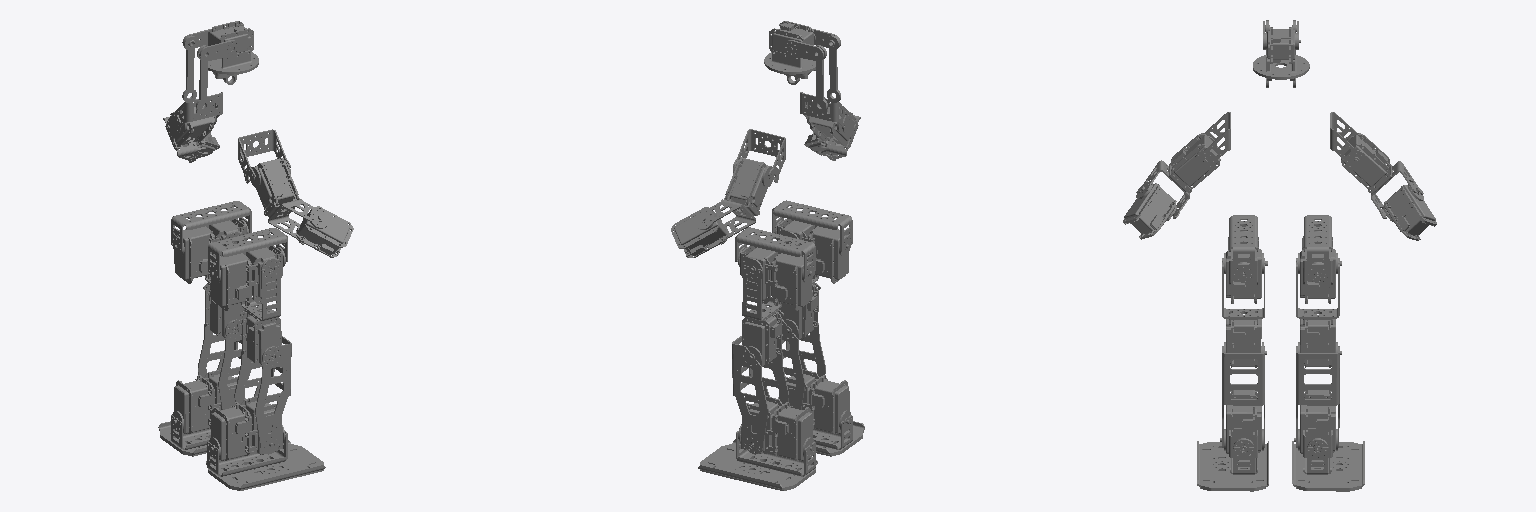
--- Facts derived from the render (not from the file) ---
The picture shows the robot from 3 angles, left to right: view 1: azimuth 30°, elevation 25°; view 2: azimuth 150°, elevation 25°; view 3: azimuth 270°, elevation 25°; orthographic projection.
Model hros5 with 31 links and 30 joints (20 revolute, 2 continuous, 8 fixed), rooted at base_link, posed every joint at zero.
Links seen in each view (by area): view 1: RFoot, RHipMotors, RTibia, RAnkle, RUpperArm, RThigh, LAnkle, LHipMotors, UpperHeadBase, LTibia, RLowerArm, LHip (+8 smaller); view 2: LFoot, LHipMotors, LTibia, LAnkle, LUpperArm, LThigh, RAnkle, RHipMotors, UpperHeadBase, LLowerArm, RTibia, RHip (+8 smaller); view 3: LFoot, RFoot, RUpperArm, LUpperArm, LThigh, RThigh, LAnkle, UpperHeadBase, RAnkle, RLowerArm, LLowerArm, LTibia (+7 smaller).
Link boxes in pixels (left/top/right/bottom): RFoot: left=206, top=431, right=325, bottom=490; RHipMotors: left=210, top=246, right=285, bottom=310; RTibia: left=234, top=336, right=291, bottom=449; RAnkle: left=209, top=396, right=285, bottom=460; RUpperArm: left=249, top=158, right=325, bottom=244; RThigh: left=240, top=265, right=281, bottom=366; LAnkle: left=172, top=369, right=245, bottom=433; LHipMotors: left=173, top=219, right=248, bottom=283; UpperHeadBase: left=208, top=21, right=258, bottom=84; LTibia: left=198, top=319, right=252, bottom=409; RLowerArm: left=296, top=206, right=353, bottom=257; LHip: left=171, top=201, right=251, bottom=251; LFoot: left=698, top=431, right=817, bottom=490; LHipMotors: left=738, top=246, right=813, bottom=310; LTibia: left=732, top=336, right=788, bottom=449; LAnkle: left=738, top=396, right=814, bottom=460; LUpperArm: left=698, top=157, right=774, bottom=244; LThigh: left=742, top=265, right=783, bottom=366; RAnkle: left=778, top=369, right=850, bottom=433; RHipMotors: left=775, top=219, right=850, bottom=283; UpperHeadBase: left=764, top=21, right=815, bottom=84; LLowerArm: left=671, top=207, right=727, bottom=257; RTibia: left=771, top=309, right=825, bottom=409; RHip: left=772, top=200, right=852, bottom=251; LFoot: left=1292, top=441, right=1364, bottom=491; RFoot: left=1197, top=441, right=1268, bottom=491; RUpperArm: left=1136, top=134, right=1220, bottom=220; LUpperArm: left=1341, top=134, right=1423, bottom=221; LThigh: left=1296, top=258, right=1341, bottom=367; RThigh: left=1222, top=258, right=1266, bottom=367; LAnkle: left=1294, top=390, right=1337, bottom=457; UpperHeadBase: left=1253, top=27, right=1309, bottom=80; RAnkle: left=1220, top=390, right=1263, bottom=457; RLowerArm: left=1123, top=183, right=1176, bottom=239; LLowerArm: left=1383, top=184, right=1436, bottom=240; LTibia: left=1296, top=346, right=1339, bottom=447.
Bounding box of the posed robot: 0.1498 × 0.4065 × 0.6143 m (x, y, z).
Meshes: 18 distinct files referenced, 21 mesh visuals loaded (16 Collada DAE); not drawn: 2 (reference not matched to a file when rendering).

URDF robot description (hros5):
<?xml version="1.0" ?>
<!-- =================================================================================== -->
<!-- |    This document was autogenerated by xacro from hros5.xacro                    | -->
<!-- |    EDITING THIS FILE BY HAND IS NOT RECOMMENDED                                 | -->
<!-- =================================================================================== -->
<robot name="hros5" xmlns:xacro="http://www.ros.org/wiki/xacro">
  <transmission name="HeadYaw_Transmission">
    <type>transmission_interface/SimpleTransmission</type>
    <joint name="HeadYaw">
      <hardwareInterface>EffortJointInterface</hardwareInterface>
    </joint>
    <actuator name="HeadYaw_Motor">
      <hardwareInterface>EffortJointInterface</hardwareInterface>
      <mechanicalReduction>1</mechanicalReduction>
    </actuator>
  </transmission>
  <transmission name="HeadPitch_Transmission">
    <type>transmission_interface/SimpleTransmission</type>
    <joint name="HeadPitch">
      <hardwareInterface>EffortJointInterface</hardwareInterface>
    </joint>
    <actuator name="HeadPitch_Motor">
      <hardwareInterface>EffortJointInterface</hardwareInterface>
      <mechanicalReduction>1</mechanicalReduction>
    </actuator>
  </transmission>
  <transmission name="LShoulderPitch_Transmission">
    <type>transmission_interface/SimpleTransmission</type>
    <joint name="LShoulderPitch">
      <hardwareInterface>EffortJointInterface</hardwareInterface>
    </joint>
    <actuator name="LShoulderPitch_Motor">
      <hardwareInterface>EffortJointInterface</hardwareInterface>
      <mechanicalReduction>1</mechanicalReduction>
    </actuator>
  </transmission>
  <transmission name="LShoulderRoll_Transmission">
    <type>transmission_interface/SimpleTransmission</type>
    <joint name="LShoulderRoll">
      <hardwareInterface>EffortJointInterface</hardwareInterface>
    </joint>
    <actuator name="LShoulderRoll_Motor">
      <hardwareInterface>EffortJointInterface</hardwareInterface>
      <mechanicalReduction>1</mechanicalReduction>
    </actuator>
  </transmission>
  <transmission name="LElbowPitch_Transmission">
    <type>transmission_interface/SimpleTransmission</type>
    <joint name="LElbowPitch">
      <hardwareInterface>EffortJointInterface</hardwareInterface>
    </joint>
    <actuator name="LElbowPitch_Motor">
      <hardwareInterface>EffortJointInterface</hardwareInterface>
      <mechanicalReduction>1</mechanicalReduction>
    </actuator>
  </transmission>
  <transmission name="RShoulderPitch_Transmission">
    <type>transmission_interface/SimpleTransmission</type>
    <joint name="RShoulderPitch">
      <hardwareInterface>EffortJointInterface</hardwareInterface>
    </joint>
    <actuator name="RShoulderPitch_Motor">
      <hardwareInterface>EffortJointInterface</hardwareInterface>
      <mechanicalReduction>1</mechanicalReduction>
    </actuator>
  </transmission>
  <transmission name="RShoulderRoll_Transmission">
    <type>transmission_interface/SimpleTransmission</type>
    <joint name="RShoulderRoll">
      <hardwareInterface>EffortJointInterface</hardwareInterface>
    </joint>
    <actuator name="RShoulderRoll_Motor">
      <hardwareInterface>EffortJointInterface</hardwareInterface>
      <mechanicalReduction>1</mechanicalReduction>
    </actuator>
  </transmission>
  <transmission name="RElbowPitch_Transmission">
    <type>transmission_interface/SimpleTransmission</type>
    <joint name="RElbowPitch">
      <hardwareInterface>EffortJointInterface</hardwareInterface>
    </joint>
    <actuator name="RElbowPitch_Motor">
      <hardwareInterface>EffortJointInterface</hardwareInterface>
      <mechanicalReduction>1</mechanicalReduction>
    </actuator>
  </transmission>
  <transmission name="LHipYaw_Transmission">
    <type>transmission_interface/SimpleTransmission</type>
    <joint name="LHipYaw">
      <hardwareInterface>EffortJointInterface</hardwareInterface>
    </joint>
    <actuator name="LHipYaw_Motor">
      <hardwareInterface>EffortJointInterface</hardwareInterface>
      <mechanicalReduction>1</mechanicalReduction>
    </actuator>
  </transmission>
  <transmission name="LHipRoll_Transmission">
    <type>transmission_interface/SimpleTransmission</type>
    <joint name="LHipRoll">
      <hardwareInterface>EffortJointInterface</hardwareInterface>
    </joint>
    <actuator name="LHipRoll_Motor">
      <hardwareInterface>EffortJointInterface</hardwareInterface>
      <mechanicalReduction>1</mechanicalReduction>
    </actuator>
  </transmission>
  <transmission name="LHipPitch_Transmission">
    <type>transmission_interface/SimpleTransmission</type>
    <joint name="LHipPitch">
      <hardwareInterface>EffortJointInterface</hardwareInterface>
    </joint>
    <actuator name="LHipPitch_Motor">
      <hardwareInterface>EffortJointInterface</hardwareInterface>
      <mechanicalReduction>1</mechanicalReduction>
    </actuator>
  </transmission>
  <transmission name="LKneePitch_Transmission">
    <type>transmission_interface/SimpleTransmission</type>
    <joint name="LKneePitch">
      <hardwareInterface>EffortJointInterface</hardwareInterface>
    </joint>
    <actuator name="LKneePitch_Motor">
      <hardwareInterface>EffortJointInterface</hardwareInterface>
      <mechanicalReduction>1</mechanicalReduction>
    </actuator>
  </transmission>
  <transmission name="LAnklePitch_Transmission">
    <type>transmission_interface/SimpleTransmission</type>
    <joint name="LAnklePitch">
      <hardwareInterface>EffortJointInterface</hardwareInterface>
    </joint>
    <actuator name="LAnklePitch_Motor">
      <hardwareInterface>EffortJointInterface</hardwareInterface>
      <mechanicalReduction>1</mechanicalReduction>
    </actuator>
  </transmission>
  <transmission name="LAnkleRoll_Transmission">
    <type>transmission_interface/SimpleTransmission</type>
    <joint name="LAnkleRoll">
      <hardwareInterface>EffortJointInterface</hardwareInterface>
    </joint>
    <actuator name="LAnkleRoll_Motor">
      <hardwareInterface>EffortJointInterface</hardwareInterface>
      <mechanicalReduction>1</mechanicalReduction>
    </actuator>
  </transmission>
  <transmission name="RHipYaw_Transmission">
    <type>transmission_interface/SimpleTransmission</type>
    <joint name="RHipYaw">
      <hardwareInterface>EffortJointInterface</hardwareInterface>
    </joint>
    <actuator name="RHipYaw_Motor">
      <hardwareInterface>EffortJointInterface</hardwareInterface>
      <mechanicalReduction>1</mechanicalReduction>
    </actuator>
  </transmission>
  <transmission name="RHipRoll_Transmission">
    <type>transmission_interface/SimpleTransmission</type>
    <joint name="RHipRoll">
      <hardwareInterface>EffortJointInterface</hardwareInterface>
    </joint>
    <actuator name="RHipRoll_Motor">
      <hardwareInterface>EffortJointInterface</hardwareInterface>
      <mechanicalReduction>1</mechanicalReduction>
    </actuator>
  </transmission>
  <transmission name="RHipPitch_Transmission">
    <type>transmission_interface/SimpleTransmission</type>
    <joint name="RHipPitch">
      <hardwareInterface>EffortJointInterface</hardwareInterface>
    </joint>
    <actuator name="RHipPitch_Motor">
      <hardwareInterface>EffortJointInterface</hardwareInterface>
      <mechanicalReduction>1</mechanicalReduction>
    </actuator>
  </transmission>
  <transmission name="RKneePitch_Transmission">
    <type>transmission_interface/SimpleTransmission</type>
    <joint name="RKneePitch">
      <hardwareInterface>EffortJointInterface</hardwareInterface>
    </joint>
    <actuator name="RKneePitch_Motor">
      <hardwareInterface>EffortJointInterface</hardwareInterface>
      <mechanicalReduction>1</mechanicalReduction>
    </actuator>
  </transmission>
  <transmission name="RAnklePitch_Transmission">
    <type>transmission_interface/SimpleTransmission</type>
    <joint name="RAnklePitch">
      <hardwareInterface>EffortJointInterface</hardwareInterface>
    </joint>
    <actuator name="RAnklePitch_Motor">
      <hardwareInterface>EffortJointInterface</hardwareInterface>
      <mechanicalReduction>1</mechanicalReduction>
    </actuator>
  </transmission>
  <transmission name="RAnkleRoll_Transmission">
    <type>transmission_interface/SimpleTransmission</type>
    <joint name="RAnkleRoll">
      <hardwareInterface>EffortJointInterface</hardwareInterface>
    </joint>
    <actuator name="RAnkleRoll_Motor">
      <hardwareInterface>EffortJointInterface</hardwareInterface>
      <mechanicalReduction>1</mechanicalReduction>
    </actuator>
  </transmission>
  <gazebo>
    <plugin filename="libgazebo_ros_control.so" name="gazebo_ros_control">
      <robotNamespace>/hros5</robotNamespace>
      <robotSimType>gazebo_ros_control/DefaultRobotHWSim</robotSimType>
    </plugin>
  </gazebo>
  <gazebo>
    <plugin filename="libroboticsgroup_gazebo_mimic_joint_plugin.so" name="HeadPitchDummy">
      <joint>HeadPitch</joint>
      <mimicJoint>HeadPitchDummy</mimicJoint>
      <multiplier>-1.0</multiplier>
      <offset>0.0</offset>
    </plugin>
    <plugin filename="libroboticsgroup_gazebo_mimic_joint_plugin.so" name="HeadPitchDummy2">
      <joint>HeadPitch</joint>
      <mimicJoint>HeadPitchDummy2</mimicJoint>
      <multiplier>0.65</multiplier>
      <offset>0.0</offset>
    </plugin>
  </gazebo>
  <link name="base_link"/>
  <joint name="fixed-base" type="fixed">
    <parent link="base_link"/>
    <child link="torso"/>
  </joint>
  <link name="torso">
    <visual>
      <origin rpy="0 0 0" xyz="0 0 0"/>
      <geometry>
        <mesh filename="package://hros5_description/meshes/endoskeleton/visual/torso.dae" scale="0.1 0.1 0.1"/>
      </geometry>
    </visual>
    <collision>
      <origin rpy="0 0 0" xyz="0 0 0"/>
      <geometry>
        <mesh filename="package://hros5_description/meshes/endoskeleton/collision/torso.stl" scale="0.1 0.1 0.1"/>
      </geometry>
    </collision>
    <inertial>
      <!-- Dummy values from Darwin OP -->
      <origin xyz="-0.003053 -0.038651 -0.019268"/>
      <mass value="0.97559947"/>
      <inertia ixx="3.1081800" ixy="-0.25460189" ixz="2.0318174" iyy="6.3787776" iyz="0.16417863" izz="5.3316425"/>
    </inertial>
  </link>
  <joint name="HeadYaw" type="revolute">
    <parent link="torso"/>
    <child link="LowerHead"/>
    <origin rpy="0 0 0" xyz="0.0035 0 0.1115"/>
    <axis xyz="0 0 1"/>
    <limit effort="2.5" lower="-1.22173048" upper="1.22173048" velocity="5.759586525"/>
  </joint>
  <link name="LowerHead">
    <visual>
      <origin rpy="0 0 0" xyz="-0.03 0 0.033"/>
      <geometry>
        <mesh filename="package://hros5_description/meshes/endoskeleton/visual/LowerHead.dae" scale="0.1 0.1 0.1"/>
      </geometry>
    </visual>
    <collision>
      <origin rpy="0 0 0" xyz="-0.03 0 0.033"/>
      <geometry>
        <mesh filename="package://hros5_description/meshes/endoskeleton/collision/LowerHead.stl" scale="0.1 0.1 0.1"/>
      </geometry>
    </collision>
    <inertial>
      <!-- Dummy values from Darwin OP -->
      <origin xyz="0.001424 -0.016567 -0.007128"/>
      <mass value="0.024357719"/>
      <inertia ixx="0.0051411124" ixy="-0.00057530255" ixz="-0.000024729049" iyy="0.0081915737" iyz="-0.000019223094" izz="0.0011379812"/>
    </inertial>
  </link>
  <joint name="HeadPitch" type="revolute">
    <parent link="LowerHead"/>
    <child link="UpperHeadBase"/>
    <origin rpy="0 0 0" xyz="-0.01 0 0.049"/>
    <axis xyz="0 1 0"/>
    <limit effort="2.5" lower="-0.25" upper="0.4" velocity="5.759586525"/>
  </joint>
  <link name="UpperHeadBase">
    <visual>
      <origin rpy="0 0 0" xyz="0.0075 -0.0045 0.0275"/>
      <geometry>
        <mesh filename="package://hros5_description/meshes/endoskeleton/visual/UpperHeadBase.dae" scale="0.1 0.1 0.1"/>
      </geometry>
    </visual>
    <collision>
      <origin rpy="0 0 0" xyz="0.0075 -0.0045 0.0275"/>
      <geometry>
        <mesh filename="package://hros5_description/meshes/endoskeleton/collision/UpperHeadBase.stl" scale="0.1 0.1 0.1"/>
      </geometry>
    </collision>
    <inertial>
      <!-- Dummy values from Darwin OP -->
      <origin xyz="0.000064 -0.018565 -0.007667"/>
      <mass value="0.15804192"/>
      <inertia ixx="0.1239683" ixy="0.000078494368" ixz="0.000007645979" iyy="0.11783781" iyz="0.0012199205" izz="0.1583601"/>
    </inertial>
  </link>
  <joint name="HeadPitchDummy" type="continuous">
    <parent link="UpperHeadBase"/>
    <child link="UpperHeadMotor"/>
    <origin rpy="0 0 0" xyz="-0.00225 0 0.046"/>
    <axis xyz="0 1 0"/>
    <mimic joint="HeadPitch" multiplier="-1.0"/>
  </joint>
  <link name="UpperHeadMotor">
    <visual>
      <origin rpy="0 0 0" xyz="-0.03 0 0.00075"/>
      <geometry>
        <mesh filename="package://hros5_description/meshes/endoskeleton/visual/UpperHeadMotor.dae" scale="0.1 0.1 0.1"/>
      </geometry>
    </visual>
    <collision>
      <origin rpy="0 0 0" xyz="-0.03 0 0.00075"/>
      <geometry>
        <mesh filename="package://hros5_description/meshes/endoskeleton/collision/UpperHeadMotor.stl" scale="0.1 0.1 0.1"/>
      </geometry>
    </collision>
    <inertial>
      <!-- dummy values for gazebo -->
      <mass value="0.2e-5"/>
      <origin xyz="0 0 0"/>
      <inertia ixx="1e-9" ixy="0" ixz="0" iyy="1e-9" iyz="0" izz="1e-9"/>
    </inertial>
  </link>
  <joint name="HeadPitchDummy2" type="continuous">
    <parent link="LowerHead"/>
    <child link="UpperHeadBack"/>
    <origin rpy="0 0 0" xyz="-0.0525 0 0.021"/>
    <axis xyz="0 1 0"/>
    <mimic joint="HeadPitch" multiplier="0.65"/>
  </joint>
  <link name="UpperHeadBack">
    <visual>
      <origin rpy="0 0 0" xyz="0.001 0 0.0375"/>
      <geometry>
        <mesh filename="package://hros5_description/meshes/endoskeleton/visual/UpperHeadBack.dae" scale="0.1 0.1 0.1"/>
      </geometry>
    </visual>
    <collision>
      <origin rpy="0 0 0" xyz="0.001 0 0.0375"/>
      <geometry>
        <mesh filename="package://hros5_description/meshes/endoskeleton/collision/UpperHeadBack.stl" scale="0.1 0.1 0.1"/>
      </geometry>
    </collision>
    <inertial>
      <!-- dummy values for gazebo -->
      <mass value="0.2e-5"/>
      <origin xyz="0 0 0"/>
      <inertia ixx="1e-9" ixy="0" ixz="0" iyy="1e-9" iyz="0" izz="1e-9"/>
    </inertial>
  </link>
  <joint name="gaze_joint" type="fixed">
    <parent link="UpperHeadBase"/>
    <child link="gaze"/>
    <origin rpy="0 0 0" xyz="0 0 0"/>
  </joint>
  <link name="gaze"/>
  <joint name="LShoulderPitch" type="revolute">
    <parent link="torso"/>
    <child link="LShoulder"/>
    <origin rpy="0 0 0" xyz="0.003 0.0675 0.084"/>
    <axis xyz="0 1 0"/>
    <limit effort="6.0" lower="-3.14159265" upper="3.14159265" velocity="6.597344565"/>
  </joint>
  <link name="LShoulder">
    <visual>
      <origin rpy="0 0 0" xyz="0 0.0122 -0.0125"/>
      <geometry>
        <mesh filename="package://hros5_description/meshes/endoskeleton/visual/LShoulder.dae" scale="0.1 0.1 0.1"/>
      </geometry>
    </visual>
    <collision>
      <origin rpy="0 0 0" xyz="0 0.0122 -0.0125"/>
      <geometry>
        <mesh filename="package://hros5_description/meshes/endoskeleton/collision/LShoulder.stl" scale="0.1 0.1 0.1"/>
      </geometry>
    </collision>
    <inertial>
      <!-- Dummy values from Darwin OP -->
      <origin xyz="-0.013522619 0.010264050 0.0013935747"/>
      <mass value="0.025913024"/>
      <inertia ixx="0.0097758165" ixy="0.0016911839" ixz="-0.00045174329" iyx="0.0016911839" iyy="0.010511104" iyz="0.00033406955" izx="-0.00045174329" izy="0.00033406955" izz="0.005476798"/>
    </inertial>
  </link>
  <link name="LUpperArm">
    <visual>
      <origin rpy="0 0 0" xyz="0 -0.0005 -0.0395"/>
      <geometry>
        <mesh filename="package://hros5_description/meshes/endoskeleton/visual/LUpperArm.dae" scale="0.1 0.1 0.1"/>
      </geometry>
    </visual>
    <collision>
      <origin rpy="0 0 0" xyz="0 -0.00025 -0.0395"/>
      <geometry>
        <mesh filename="package://hros5_description/meshes/endoskeleton/collision/LUpperArm.stl" scale="0.1 0.1 0.1"/>
      </geometry>
    </collision>
    <inertial>
      <!-- Dummy values from Darwin OP -->
      <origin xyz="-0.036239 0.000734 0.000660"/>
      <mass value="0.16837715"/>
      <inertia ixx="0.12202839" ixy="-0.0020812626" ixz="-0.00088143449" iyx="-0.0020812626" iyy="0.038088441" iyz="0.0018251448" izx="-0.00088143449" izy="0.0018251448" izz="0.11340830"/>
    </inertial>
  </link>
  <link name="LLowerArm">
    <visual>
      <origin rpy="0 0 0" xyz="0 -0.003 -0.0204"/>
      <geometry>
        <mesh filename="package://hros5_description/meshes/endoskeleton/visual/LLowerArm.dae" scale="0.1 0.1 0.1"/>
      </geometry>
    </visual>
    <collision>
      <origin rpy="0 0 0" xyz="0 -0.003 -0.0204"/>
      <geometry>
        <mesh filename="package://hros5_description/meshes/endoskeleton/collision/LLowerArm.stl" scale="0.1 0.1 0.1"/>
      </geometry>
    </collision>
    <inertial>
      <!-- Dummy values from Darwin OP -->
      <origin xyz="0.000000 0.000000 0.000000"/>
      <mass value="0.059288504"/>
      <inertia ixx="0.086855267" ixy="0.0053020311" ixz="0.00043636051" iyx="0.0053020311" iyy="0.021192085" iyz="-0.0064855932" izx="0.00043636051" izy="-0.0064855932" izz="0.086845450"/>
    </inertial>
  </link>
  <joint name="RShoulderPitch" type="revolute">
    <parent link="torso"/>
    <child link="RShoulder"/>
    <origin rpy="0 0 0" xyz="0.003 -0.0675 0.084"/>
    <axis xyz="0 1 0"/>
    <limit effort="6.0" lower="-3.14159265" upper="3.14159265" velocity="6.597344565"/>
  </joint>
  <link name="RShoulder">
    <visual>
      <origin rpy="0 0 0" xyz="0 -0.0122 -0.0125"/>
      <geometry>
        <mesh filename="package://hros5_description/meshes/endoskeleton/visual/RShoulder.dae" scale="0.1 0.1 0.1"/>
      </geometry>
    </visual>
    <collision>
      <origin rpy="0 0 0" xyz="0 -0.0122 -0.0125"/>
      <geometry>
        <mesh filename="package://hros5_description/meshes/endoskeleton/collision/RShoulder.stl" scale="0.1 0.1 0.1"/>
      </geometry>
    </collision>
    <inertial>
      <!-- Dummy values from Darwin OP -->
      <origin xyz="-0.013522619 0.010264050 0.0013935747"/>
      <mass value="0.025913024"/>
      <inertia ixx="0.0097758165" ixy="0.0016911839" ixz="-0.00045174329" iyx="0.0016911839" iyy="0.010511104" iyz="0.00033406955" izx="-0.00045174329" izy="0.00033406955" izz="0.005476798"/>
    </inertial>
  </link>
  <link name="RUpperArm">
    <visual>
      <origin rpy="0 0 0" xyz="0 -0.0005 -0.0395"/>
      <geometry>
        <mesh filename="package://hros5_description/meshes/endoskeleton/visual/RUpperArm.dae" scale="0.1 0.1 0.1"/>
      </geometry>
    </visual>
    <collision>
      <origin rpy="0 0 0" xyz="0 0.00025 -0.0395"/>
      <geometry>
        <mesh filename="package://hros5_description/meshes/endoskeleton/collision/RUpperArm.stl" scale="0.1 0.1 0.1"/>
      </geometry>
    </collision>
    <inertial>
      <!-- Dummy values from Darwin OP -->
      <origin xyz="-0.036239 0.000734 0.000660"/>
      <mass value="0.16837715"/>
      <inertia ixx="0.12202839" ixy="-0.0020812626" ixz="-0.00088143449" iyx="-0.0020812626" iyy="0.038088441" iyz="0.0018251448" izx="-0.00088143449" izy="0.0018251448" izz="0.11340830"/>
    </inertial>
  </link>
  <link name="RLowerArm">
    <visual>
      <origin rpy="0 0 0" xyz="0 0.003 -0.0204"/>
      <geometry>
        <mesh filename="package://hros5_description/meshes/endoskeleton/visual/RLowerArm.dae" scale="0.1 0.1 0.1"/>
      </geometry>
    </visual>
    <collision>
      <origin rpy="0 0 0" xyz="0 0.003 -0.0204"/>
      <geometry>
        <mesh filename="package://hros5_description/meshes/endoskeleton/collision/RLowerArm.stl" scale="0.1 0.1 0.1"/>
      </geometry>
    </collision>
    <inertial>
      <!-- Dummy values from Darwin OP -->
      <origin xyz="0.000000 0.000000 0.000000"/>
      <mass value="0.059288504"/>
      <inertia ixx="0.086855267" ixy="0.0053020311" ixz="0.00043636051" iyx="0.0053020311" iyy="0.021192085" iyz="-0.0064855932" izx="0.00043636051" izy="-0.0064855932" izz="0.086845450"/>
    </inertial>
  </link>
  <joint name="LShoulderRoll" type="revolute">
    <parent link="LShoulder"/>
    <child link="LUpperArm"/>
    <origin rpy="0.785398163395 0 0" xyz="0.002 0.03 -0.03"/>
    <axis xyz="1 0 0"/>
    <limit effort="6.0" lower="-2.35619449" upper="1.30899694" velocity="6.597344565"/>
  </joint>
  <joint name="RShoulderRoll" type="revolute">
    <parent link="RShoulder"/>
    <child link="RUpperArm"/>
    <origin rpy="-0.785398163395 0 0" xyz="0.002 -0.03 -0.03"/>
    <axis xyz="1 0 0"/>
    <limit effort="6.0" lower="-1.30899694" upper="2.35619449" velocity="6.597344565"/>
  </joint>
  <joint name="LElbowPitch" type="revolute">
    <parent link="LUpperArm"/>
    <child link="LLowerArm"/>
    <origin rpy="0 -0.785398163395 0" xyz="0.03 -0.0015 -0.085"/>
    <axis xyz="0 1 0"/>
    <limit effort="6.0" lower="-1.22173048" upper="1.65806279" velocity="6.597344565"/>
  </joint>
  <joint name="RElbowPitch" type="revolute">
    <parent link="RUpperArm"/>
    <child link="RLowerArm"/>
    <origin rpy="0 -0.785398163395 0" xyz="0.03 -0.0015 -0.085"/>
    <axis xyz="0 1 0"/>
    <limit effort="6.0" lower="-1.65806279" upper="1.22173048" velocity="6.597344565"/>
  </joint>
  <joint name="l_wrist_joint" type="fixed">
    <parent link="LLowerArm"/>
    <child link="l_wrist"/>
    <origin rpy="0 0 0" xyz="0 0 -0.0425"/>
  </joint>
  <link name="l_wrist"/>
  <joint name="r_wrist_joint" type="fixed">
    <parent link="RLowerArm"/>
    <child link="r_wrist"/>
    <origin rpy="0 0 0" xyz="0 0 -0.0425"/>
  </joint>
  <link name="r_wrist"/>
  <joint name="LHipYaw" type="revolute">
    <parent link="torso"/>
    <child link="LHip"/>
    <origin rpy="0 0 0" xyz="0.0175 0.048 -0.063"/>
    <axis xyz="0 0 1"/>
    <limit effort="8.4" lower="-0.523598776" upper="0.523598776" velocity="4.712388975"/>
  </joint>
  <link name="LHip">
    <visual>
      <origin rpy="0 0 0" xyz="-0.01605 0 -0.008931"/>
      <geometry>
        <mesh filename="package://hros5_description/meshes/endoskeleton/visual/Hip.dae" scale="0.1 0.1 0.1"/>
      </geometry>
    </visual>
    <collision>
      <origin rpy="0 0 0" xyz="-0.01605 0 -0.008931"/>
      <geometry>
        <mesh filename="package://hros5_description/meshes/endoskeleton/collision/Hip.stl" scale="0.1 0.1 0.1"/>
      </geometry>
    </collision>
    <inertial>
      <!-- Dummy values from Darwin OP -->
      <origin xyz="0.000000 0.000480 0.018437"/>
      <mass value="0.167"/>
      <inertia ixx="0.12259691" ixy="0.00071127469" ixz="0.00081143913" iyx="0.00071127469" iyy="0.11066637" iyz="-0.0071635476" izx="0.00081143913" izy="-0.0071635476" izz="0.041877668"/>
    </inertial>
  </link>
  <joint name="LHipRoll" type="revolute">
    <parent link="LHip"/>
    <child link="LHipMotors"/>
    <origin rpy="0 0 0" xyz="-0.0675 0 -0.034"/>
    <axis xyz="1 0 0"/>
    <limit effort="8.4" lower="-0.785398163" upper="0.785398163" velocity="4.712388975"/>
  </joint>
  <link name="LHipMotors">
    <visual>
      <origin rpy="0 0 0" xyz="0.077 -0.0052 -0.0041"/>
      <geometry>
        <mesh filename="package://hros5_description/meshes/endoskeleton/visual/HipMotors.dae" scale="0.1 0.1 0.1"/>
      </geometry>
    </visual>
    <collision>
      <origin rpy="0 0 0" xyz="0.077 -0.0052 -0.0041"/>
      <geometry>
        <mesh filename="package://hros5_description/meshes/endoskeleton/collision/HipMotors.stl" scale="0.1 0.1 0.1"/>
      </geometry>
    </collision>
    <inertial>
      <!-- Dummy values from Darwin OP -->
      <origin xyz="0.000000 0.000480 0.018437"/>
      <mass value="0.167"/>
      <inertia ixx="0.12259691" ixy="0.00071127469" ixz="0.00081143913" iyx="0.00071127469" iyy="0.11066637" iyz="-0.0071635476" izx="0.00081143913" izy="-0.0071635476" izz="0.041877668"/>
    </inertial>
  </link>
  <joint name="LHipPitch" type="revolute">
    <parent link="LHipMotors"/>
    <child link="LThigh"/>
    <origin rpy="0 0 0" xyz="0.0705 0 0"/>
    <axis xyz="0 1 0"/>
    <limit effort="8.4" lower="-1.57079633" upper="1.57079633" velocity="4.712388975"/>
  </joint>
  <link name="LThigh">
    <visual>
      <origin rpy="0 0 0" xyz="0.001 -0.0095 -0.095"/>
      <geometry>
        <mesh filename="package://hros5_description/meshes/endoskeleton/visual/Thigh.dae" scale="0.1 0.1 0.1"/>
      </geometry>
    </visual>
    <collision>
      <origin rpy="0 0 0" xyz="0.001 -0.0095 -0.095"/>
      <geometry>
        <mesh filename="package://hros5_description/meshes/endoskeleton/collision/Thigh.stl" scale="0.1 0.1 0.1"/>
      </geometry>
    </collision>
    <inertial>
      <!-- Dummy values from Darwin OP -->
      <origin xyz="0.000079 0.018242 0.013873"/>
      <mass value="0.11904336"/>
      <inertia ixx="0.097950272" ixy="0.0012119368" ixz="-0.00021223016" iyx="0.00122119368" iyy="0.032848287" iyz="-0.0019474021" izx="-0.00021223016" izy="-0.0019474021" izz="0.11493509"/>
    </inertial>
  </link>
  <joint name="LKneePitch" type="revolute">
    <parent link="LThigh"/>
    <child link="LTibia"/>
    <origin rpy="0 0 0" xyz="0.0017 0 -0.127"/>
    <axis xyz="0 1 0"/>
    <limit effort="8.4" lower="-2.7925268" upper="2.7925268" velocity="4.712388975"/>
  </joint>
  <link name="LTibia">
    <visual>
      <origin rpy="0 0 0" xyz="0.004 0 -0.059"/>
      <geometry>
        <mesh filename="package://hros5_description/meshes/endoskeleton/visual/Tibia.dae" scale="0.1 0.1 0.1"/>
      </geometry>
    </visual>
    <collision>
      <origin rpy="0 0 0" xyz="0.004 0 -0.059"/>
      <geometry>
        <mesh filename="package://hros5_description/meshes/endoskeleton/collision/Tibia.stl" scale="0.1 0.1 0.1"/>
      </geometry>
    </collision>
    <inertial>
      <!-- Dummy values from Darwin OP -->
      <origin xyz="-0.053955 0.006548 -0.000592"/>
      <mass value="0.070309794"/>
      <inertia ixx="0.093369608" ixy="-0.00093567395" ixz="-0.00023992085" iyx="-0.00093567395" iyy="0.046295534" iyz="-0.012858493" izx="-0.00023992085" izy="-0.012858493" izz="0.11351516"/>
    </inertial>
  </link>
  <joint name="LAnklePitch" type="revolute">
    <parent link="LTibia"/>
    <child link="LAnkle"/>
    <origin rpy="0 0 0" xyz="-0.002 0 -0.125"/>
    <axis xyz="0 1 0"/>
    <limit effort="8.4" lower="-1.57079633" upper="1.57079633" velocity="4.712388975"/>
  </joint>
  <link name="LAnkle">
    <visual>
      <origin rpy="0 0 0" xyz="0.00625 0.00525 0.0042"/>
      <geometry>
        <mesh filename="package://hros5_description/meshes/endoskeleton/visual/Ankle.dae" scale="0.1 0.1 0.1"/>
      </geometry>
    </visual>
    <collision>
      <origin rpy="0 0 0" xyz="0.00625 0.00525 0.0042"/>
      <geometry>
        <mesh filename="package://hros5_description/meshes/endoskeleton/collision/Ankle.stl" scale="0.1 0.1 0.1"/>
      </geometry>
    </collision>
    <inertial>
      <!-- Dummy values from Darwin OP -->
      <origin xyz="-0.000214 -0.018536 0.013873"/>
      <mass value="0.16710792"/>
      <inertia ixx="0.12079175" ixy="-0.00079781067" ixz="-0.00039322246" iyx="-0.00079781067" iyy="0.10885465" iyz="0.0070770117" izx="-0.00039322246" izy="0.0070770117" izz="0.041871103"/>
    </inertial>
  </link>
  <joint name="LAnkleRoll" type="revolute">
    <parent link="LAnkle"/>
    <child link="LFoot"/>
    <origin rpy="0 0 0" xyz="-0.07 0 0"/>
    <axis xyz="1 0 0"/>
    <limit effort="8.4" lower="-0.785398163" upper="0.785398163" velocity="4.712388975"/>
  </joint>
  <link name="LFoot">
    <visual>
      <origin rpy="0 0 0" xyz="0.0565 0.007 -0.031"/>
      <geometry>
        <mesh filename="package://hros5_description/meshes/endoskeleton/visual/LFoot.dae" scale="0.1 0.1 0.1"/>
      </geometry>
    </visual>
    <collision>
      <origin rpy="0 0 0" xyz="0.0565 0.007 -0.031"/>
      <geometry>
        <mesh filename="package://hros5_description/meshes/endoskeleton/collision/LFoot.stl" scale="0.1 0.1 0.1"/>
      </geometry>
    </collision>
    <inertial>
      <!-- Dummy values from Darwin OP -->
      <origin xyz="-0.025995 -0.009506 -0.000503"/>
      <mass value="0.0794462"/>
      <inertia ixx="0.12079175" ixy="-0.00079781067" ixz="-0.00039322246" iyx="-0.00079781067" iyy="0.10885465" iyz="0.0070770117" izx="-0.00039322246" izy="0.0070770117" izz="0.041871103"/>
    </inertial>
  </link>
  <joint name="RHipYaw" type="revolute">
    <parent link="torso"/>
    <child link="RHip"/>
    <origin rpy="0 0 0" xyz="0.0175 -0.048 -0.063"/>
    <axis xyz="0 0 1"/>
    <limit effort="8.4" lower="-0.523598776" upper="0.523598776" velocity="4.712388975"/>
  </joint>
  <link name="RHip">
    <visual>
      <origin rpy="0 0 0" xyz="-0.01605 0 -0.008931"/>
      <geometry>
        <mesh filename="package://hros5_description/meshes/endoskeleton/visual/Hip.dae" scale="0.1 0.1 0.1"/>
      </geometry>
    </visual>
    <collision>
      <origin rpy="0 0 0" xyz="-0.01605 0 -0.008931"/>
      <geometry>
        <mesh filename="package://hros5_description/meshes/endoskeleton/collision/Hip.stl" scale="0.1 0.1 0.1"/>
      </geometry>
    </collision>
    <inertial>
      <!-- Dummy values from Darwin OP -->
      <origin xyz="0.000000 0.000480 0.018437"/>
      <mass value="0.167"/>
      <inertia ixx="0.12259691" ixy="0.00071127469" ixz="0.00081143913" iyx="0.00071127469" iyy="0.11066637" iyz="-0.0071635476" izx="0.00081143913" izy="-0.0071635476" izz="0.041877668"/>
    </inertial>
  </link>
  <joint name="RHipRoll" type="revolute">
    <parent link="RHip"/>
    <child link="RHipMotors"/>
    <origin rpy="0 0 0" xyz="-0.0675 0 -0.034"/>
    <axis xyz="1 0 0"/>
    <limit effort="8.4" lower="-0.785398163" upper="0.785398163" velocity="4.712388975"/>
  </joint>
  <link name="RHipMotors">
    <visual>
      <origin rpy="0 0 0" xyz="0.077 -0.0052 -0.0041"/>
      <geometry>
        <mesh filename="package://hros5_description/meshes/endoskeleton/visual/HipMotors.dae" scale="0.1 0.1 0.1"/>
      </geometry>
    </visual>
    <collision>
      <origin rpy="0 0 0" xyz="0.077 -0.0052 -0.0041"/>
      <geometry>
        <mesh filename="package://hros5_description/meshes/endoskeleton/collision/HipMotors.stl" scale="0.1 0.1 0.1"/>
      </geometry>
    </collision>
    <inertial>
      <!-- Dummy values from Darwin OP -->
      <origin xyz="0.000000 0.000480 0.018437"/>
      <mass value="0.167"/>
      <inertia ixx="0.12259691" ixy="0.00071127469" ixz="0.00081143913" iyx="0.00071127469" iyy="0.11066637" iyz="-0.0071635476" izx="0.00081143913" izy="-0.0071635476" izz="0.041877668"/>
    </inertial>
  </link>
  <joint name="RHipPitch" type="revolute">
    <parent link="RHipMotors"/>
    <child link="RThigh"/>
    <origin rpy="0 0 0" xyz="0.0705 0 0"/>
    <axis xyz="0 1 0"/>
    <limit effort="8.4" lower="-1.57079633" upper="1.57079633" velocity="4.712388975"/>
  </joint>
  <link name="RThigh">
    <visual>
      <origin rpy="0 0 0" xyz="0.001 -0.0095 -0.095"/>
      <geometry>
        <mesh filename="package://hros5_description/meshes/endoskeleton/visual/Thigh.dae" scale="0.1 0.1 0.1"/>
      </geometry>
    </visual>
    <collision>
      <origin rpy="0 0 0" xyz="0.001 -0.0095 -0.095"/>
      <geometry>
        <mesh filename="package://hros5_description/meshes/endoskeleton/collision/Thigh.stl" scale="0.1 0.1 0.1"/>
      </geometry>
    </collision>
    <inertial>
      <!-- Dummy values from Darwin OP -->
      <origin xyz="0.000079 0.018242 0.013873"/>
      <mass value="0.11904336"/>
      <inertia ixx="0.097950272" ixy="0.0012119368" ixz="-0.00021223016" iyx="0.00122119368" iyy="0.032848287" iyz="-0.0019474021" izx="-0.00021223016" izy="-0.0019474021" izz="0.11493509"/>
    </inertial>
  </link>
  <joint name="RKneePitch" type="revolute">
    <parent link="RThigh"/>
    <child link="RTibia"/>
    <origin rpy="0 0 0" xyz="0.0017 0 -0.127"/>
    <axis xyz="0 1 0"/>
    <limit effort="8.4" lower="-2.7925268" upper="2.7925268" velocity="4.712388975"/>
  </joint>
  <link name="RTibia">
    <visual>
      <origin rpy="0 0 0" xyz="0.004 0 -0.059"/>
      <geometry>
        <mesh filename="package://hros5_description/meshes/endoskeleton/visual/Tibia.dae" scale="0.1 0.1 0.1"/>
      </geometry>
    </visual>
    <collision>
      <origin rpy="0 0 0" xyz="0.004 0 -0.059"/>
      <geometry>
        <mesh filename="package://hros5_description/meshes/endoskeleton/collision/Tibia.stl" scale="0.1 0.1 0.1"/>
      </geometry>
    </collision>
    <inertial>
      <!-- Dummy values from Darwin OP -->
      <origin xyz="-0.053955 0.006548 -0.000592"/>
      <mass value="0.070309794"/>
      <inertia ixx="0.093369608" ixy="-0.00093567395" ixz="-0.00023992085" iyx="-0.00093567395" iyy="0.046295534" iyz="-0.012858493" izx="-0.00023992085" izy="-0.012858493" izz="0.11351516"/>
    </inertial>
  </link>
  <joint name="RAnklePitch" type="revolute">
    <parent link="RTibia"/>
    <child link="RAnkle"/>
    <origin rpy="0 0 0" xyz="-0.002 0 -0.125"/>
    <axis xyz="0 1 0"/>
    <limit effort="8.4" lower="-1.57079633" upper="1.57079633" velocity="4.712388975"/>
  </joint>
  <link name="RAnkle">
    <visual>
      <origin rpy="0 0 0" xyz="0.00625 0.00525 0.0042"/>
      <geometry>
        <mesh filename="package://hros5_description/meshes/endoskeleton/visual/Ankle.dae" scale="0.1 0.1 0.1"/>
      </geometry>
    </visual>
    <collision>
      <origin rpy="0 0 0" xyz="0.00625 0.00525 0.0042"/>
      <geometry>
        <mesh filename="package://hros5_description/meshes/endoskeleton/collision/Ankle.stl" scale="0.1 0.1 0.1"/>
      </geometry>
    </collision>
    <inertial>
      <!-- Dummy values from Darwin OP -->
      <origin xyz="-0.000214 -0.018536 0.013873"/>
      <mass value="0.16710792"/>
      <inertia ixx="0.12079175" ixy="-0.00079781067" ixz="-0.00039322246" iyx="-0.00079781067" iyy="0.10885465" iyz="0.0070770117" izx="-0.00039322246" izy="0.0070770117" izz="0.041871103"/>
    </inertial>
  </link>
  <joint name="RAnkleRoll" type="revolute">
    <parent link="RAnkle"/>
    <child link="RFoot"/>
    <origin rpy="0 0 0" xyz="-0.07 0 0"/>
    <axis xyz="1 0 0"/>
    <limit effort="8.4" lower="-0.785398163" upper="0.785398163" velocity="4.712388975"/>
  </joint>
  <link name="RFoot">
    <visual>
      <origin rpy="0 0 0" xyz="0.0565 -0.007 -0.031"/>
      <geometry>
        <mesh filename="package://hros5_description/meshes/endoskeleton/visual/RFoot.dae" scale="0.1 0.1 0.1"/>
      </geometry>
    </visual>
    <collision>
      <origin rpy="0 0 0" xyz="0.0565 -0.007 -0.031"/>
      <geometry>
        <mesh filename="package://hros5_description/meshes/endoskeleton/collision/RFoot.stl" scale="0.1 0.1 0.1"/>
      </geometry>
    </collision>
    <inertial>
      <!-- Dummy values from Darwin OP -->
      <origin xyz="-0.025995 -0.009506 -0.000503"/>
      <mass value="0.0794462"/>
      <inertia ixx="0.12079175" ixy="-0.00079781067" ixz="-0.00039322246" iyx="-0.00079781067" iyy="0.10885465" iyz="0.0070770117" izx="-0.00039322246" izy="0.0070770117" izz="0.041871103"/>
    </inertial>
  </link>
  <joint name="l_ankle_joint" type="fixed">
    <parent link="LAnkle"/>
    <child link="l_ankle"/>
    <origin rpy="0 0 0" xyz="0 0 0"/>
  </joint>
  <link name="l_ankle"/>
  <joint name="r_ankle_joint" type="fixed">
    <parent link="RAnkle"/>
    <child link="r_ankle"/>
    <origin rpy="0 0 0" xyz="0 0 0"/>
  </joint>
  <link name="r_ankle"/>
  <joint name="l_sole_joint" type="fixed">
    <parent link="LFoot"/>
    <child link="l_sole"/>
    <origin rpy="0 0 0" xyz="0.0565 0.007 -0.04"/>
  </joint>
  <link name="l_sole"/>
  <joint name="r_sole_joint" type="fixed">
    <parent link="RFoot"/>
    <child link="r_sole"/>
    <origin rpy="0 0 0" xyz="0.0565 -0.007 -0.04"/>
  </joint>
  <link name="r_sole"/>
</robot>
